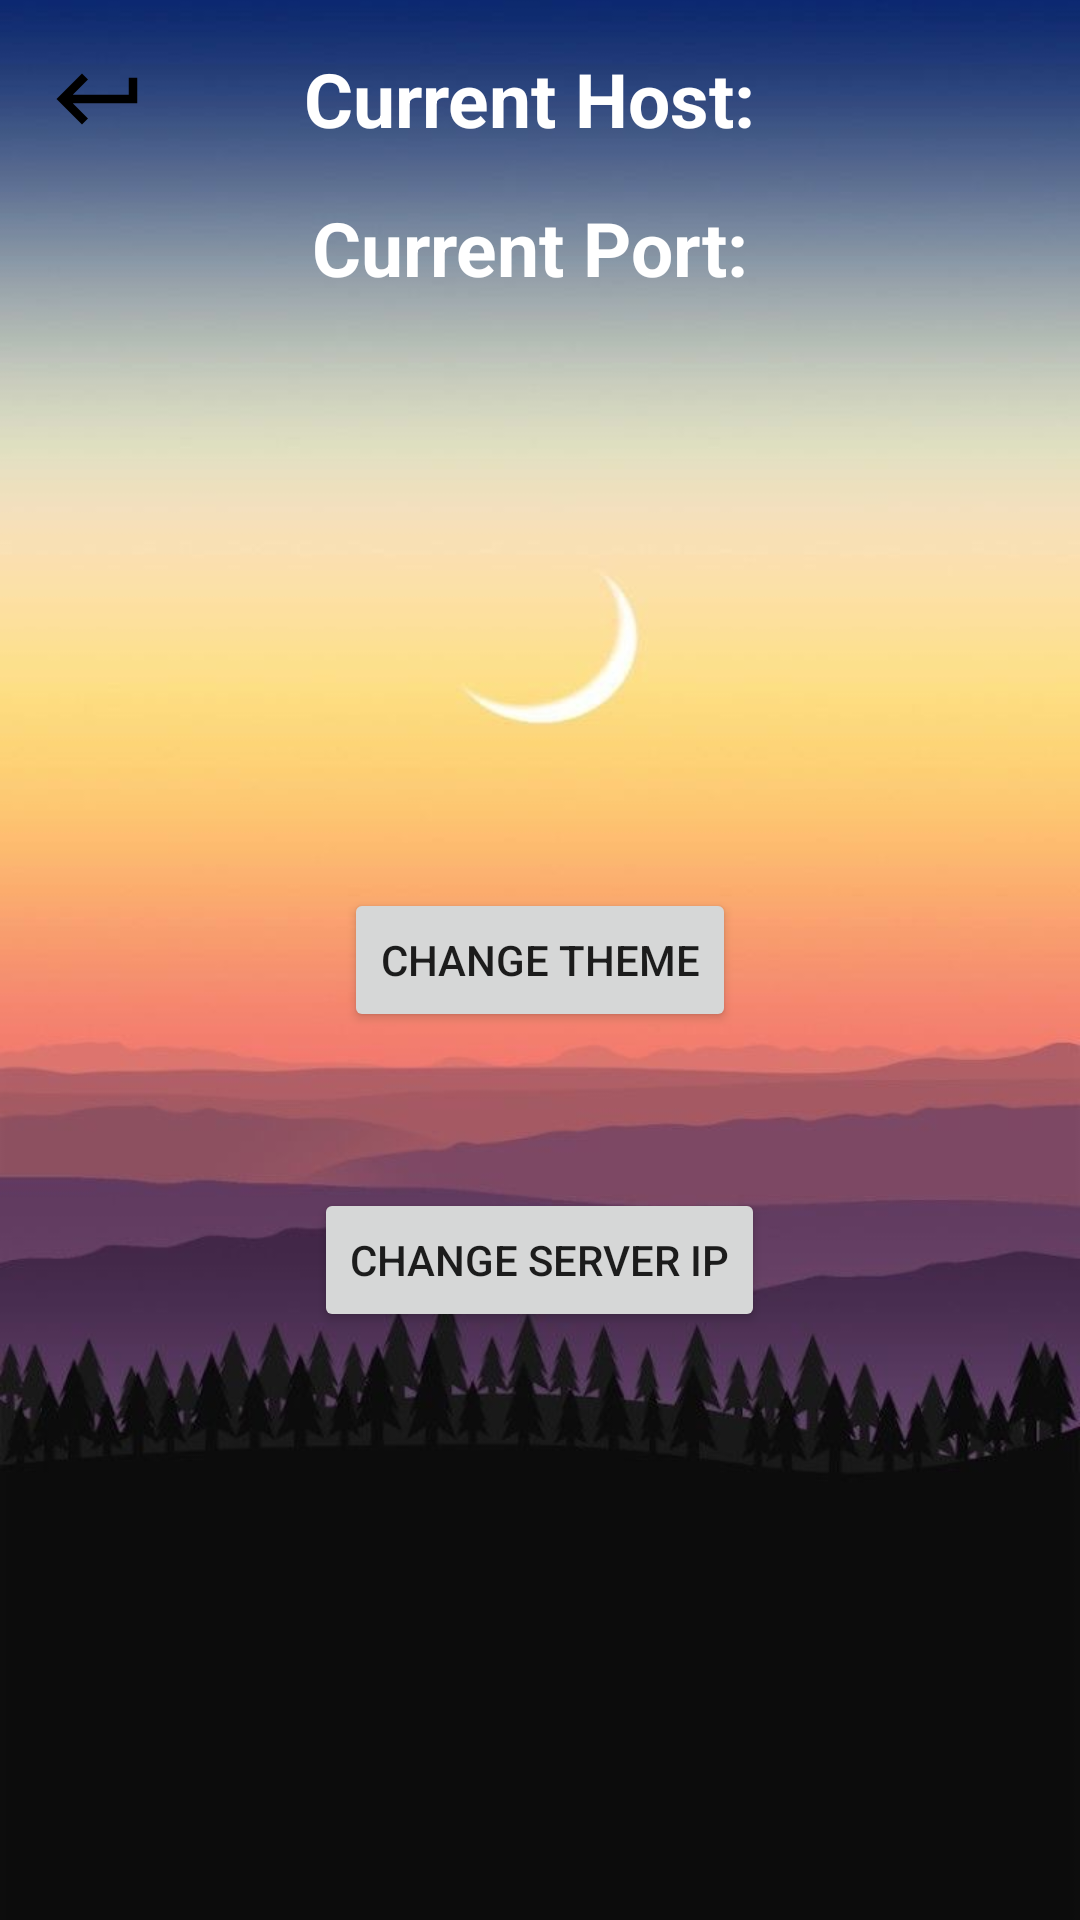

Icon click points for this 1080 x 1920 phone screenshot, format [x,y]:
return: [99,99]
